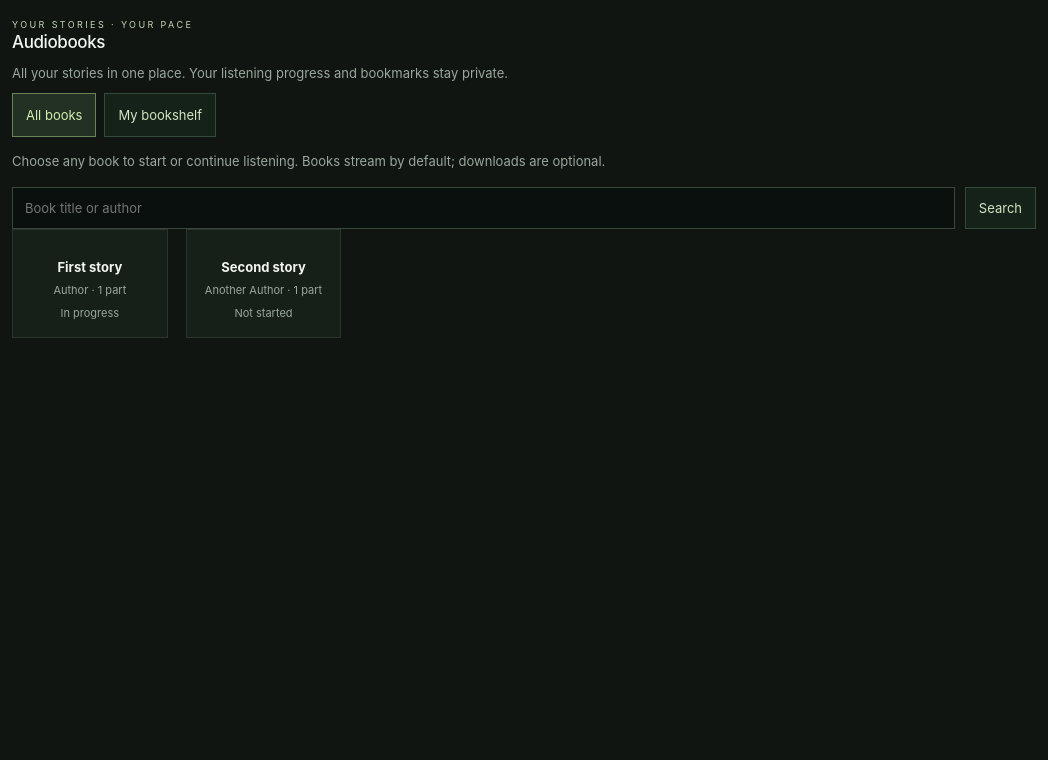
Scenario: shows all source books immediately and reopens the saved book without creating or resetting it
The width and height of the screenshot is (1048, 760).
Check: the button "Second story Another Author · 1 part Not started" is shown, box left=186, top=229, right=341, bottom=338
Click the button "First story Author · 1 part In progress": [90, 284] box left=12, top=229, right=168, bottom=338
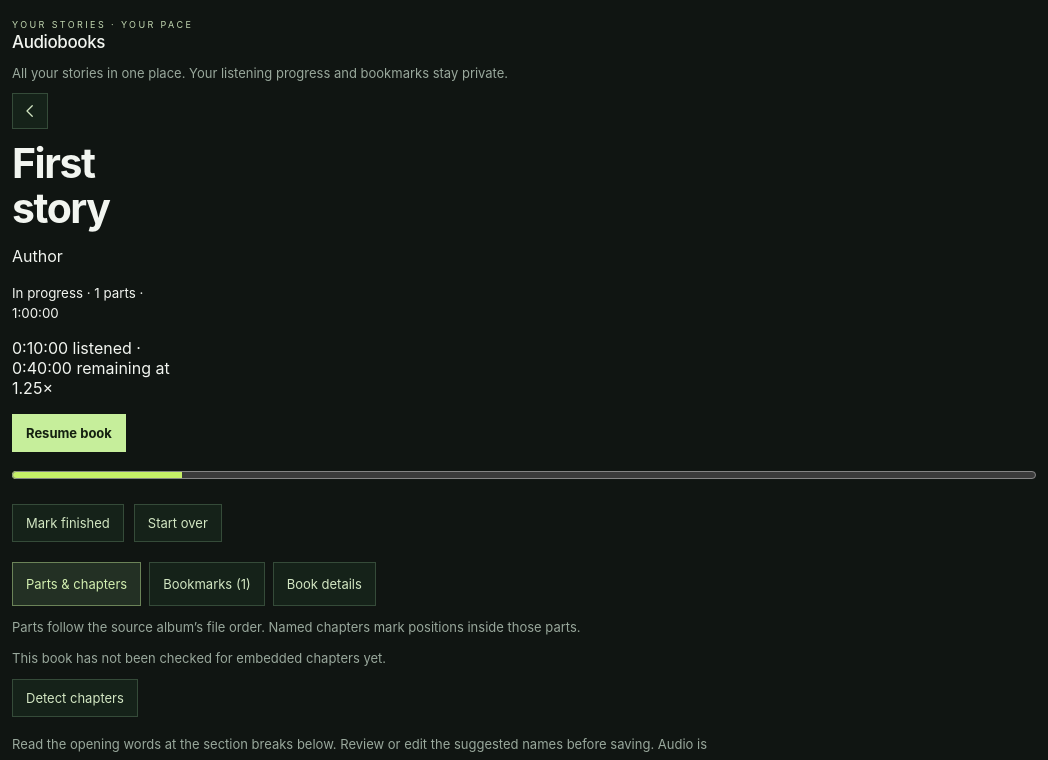
Check: the heading "First story" is shown, box left=12, top=138, right=110, bottom=233
Check: the button "Bookmarks (1)" is shown, box left=149, top=562, right=265, bottom=606
